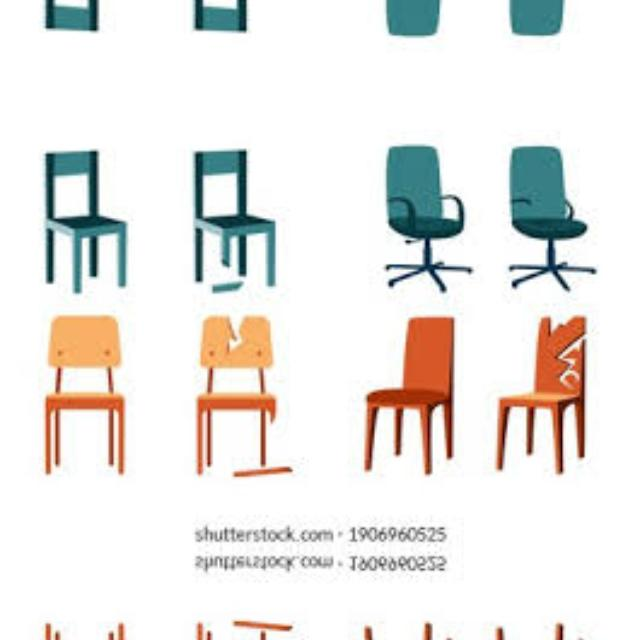obstacle: (340, 95, 490, 295), (21, 315, 152, 517), (22, 120, 158, 312), (344, 303, 472, 505), (172, 116, 302, 302), (498, 97, 616, 301), (340, 0, 490, 85), (498, 0, 616, 83), (172, 0, 302, 64), (22, 0, 157, 60), (21, 581, 152, 640), (344, 592, 471, 640)
